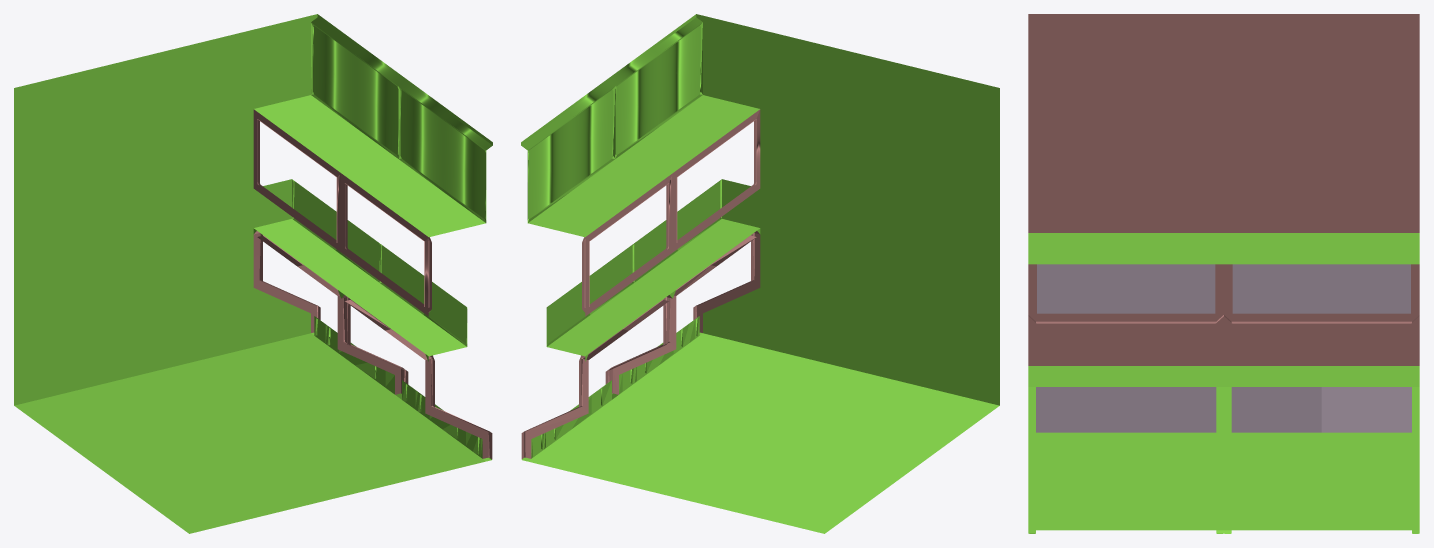
Rendered from uee_stanton_kit_ext_wall_8x8x8_09_reg.glb.
3 views of the same model, side by side, from view 1: azimuth 30°, elevation 25°; view 2: azimuth 150°, elevation 25°; view 3: azimuth 270°, elevation 25° (orthographic). The views are drawn at different scales.
Bounding box in the file's own units: 8 × 8 × 8.
